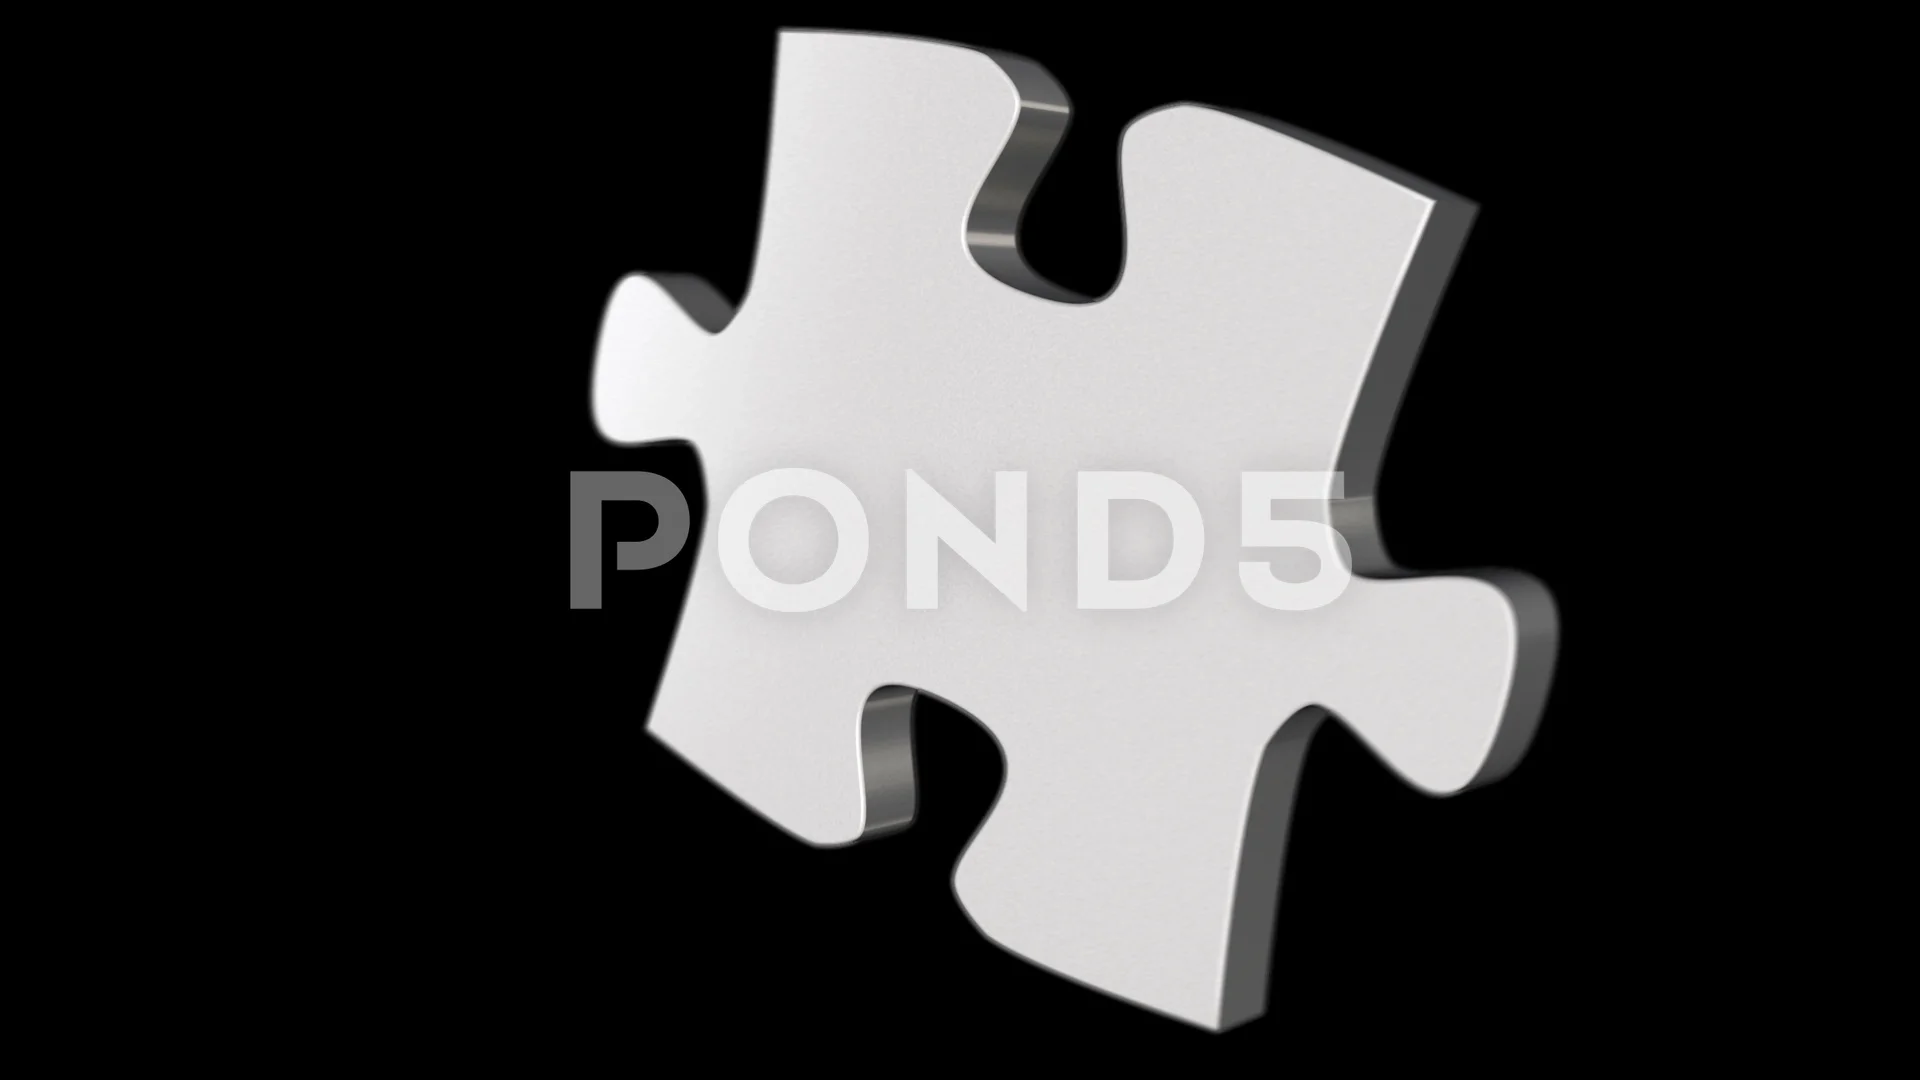puzzle piece: (535, 11, 1609, 1080)
